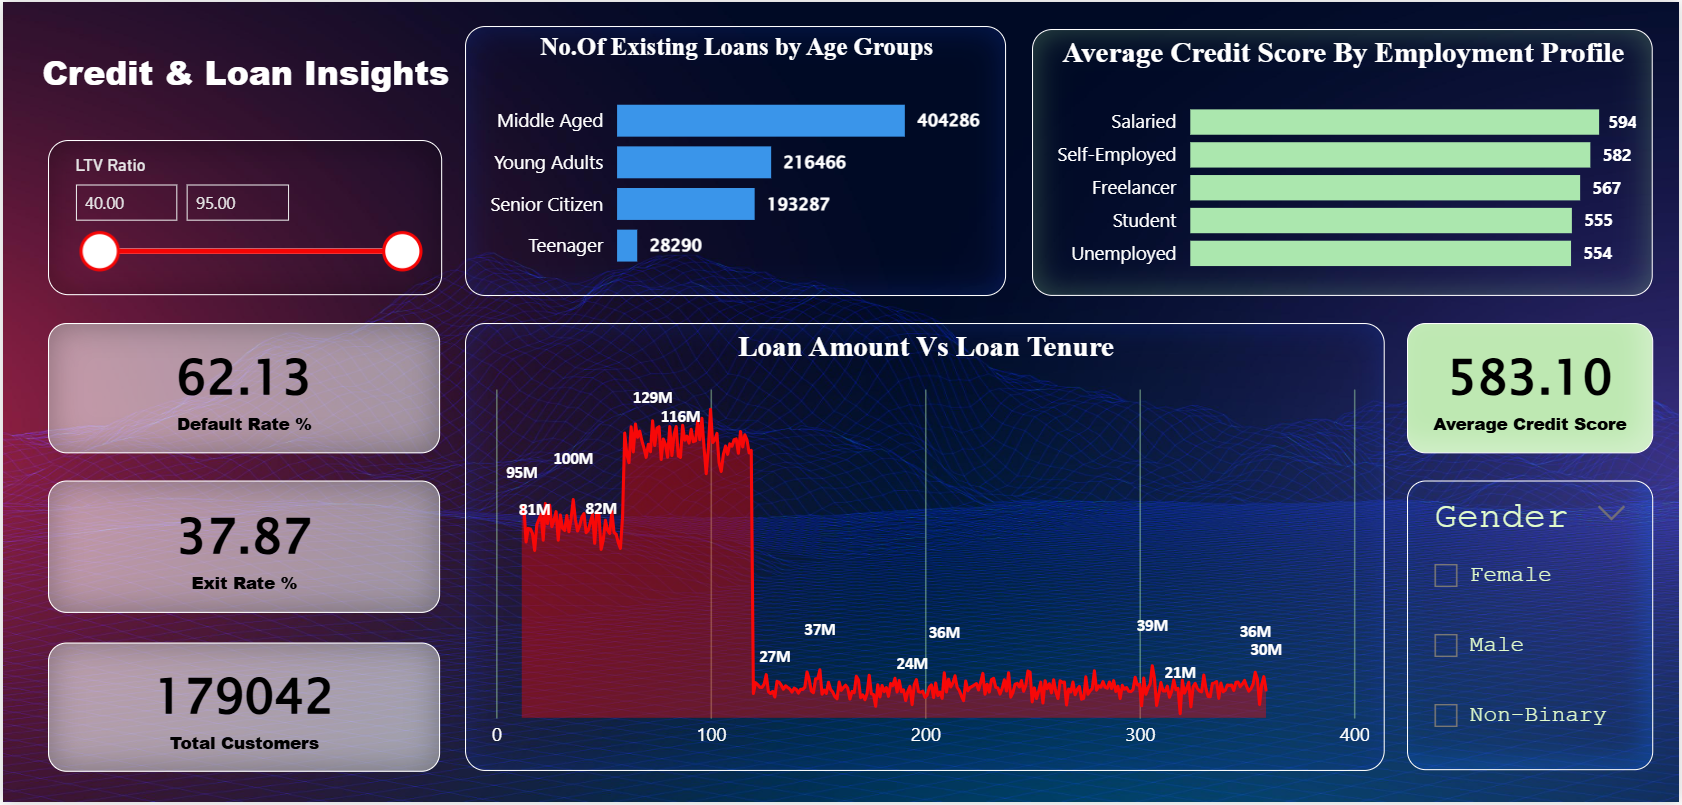

Layout of this report page (visuals, bound fields, positions):
{"tool":"powerbi","page":{"name":"Credit & Loan","canvas":[1080,515],"ordinal":1},"visuals":[{"type":"textbox","box":[16.3,25.1,280,43.6],"z":0},{"type":"clusteredBarChart","title":"Average Credit Score By Employment Profile","fields":{"Category":["credit_data.Employment Profile"],"Y":["Avg(credit_data.Credit Score)"]},"box":[663.5,17.4,399.8,172.1],"z":1000},{"type":"lineChart","title":"Loan Amount Vs Loan Tenure","fields":{"Category":["credit_data.Loan Tenure"],"Y":["Sum(credit_data.Loan Amount)"]},"box":[297.7,207,592.8,288.7],"z":2000},{"type":"slicer","title":"Average Credit Score By Employment Profile","fields":{"Values":["credit_data.LTV Ratio"]},"box":[29.4,89.3,253.8,100.2],"z":3000},{"type":"clusteredBarChart","title":"No.Of Existing Loans by Age Groups","fields":{"Category":["credit_data.Age Category"],"Y":["Sum(credit_data.Number of Existing Loans)"]},"box":[297.7,15.3,348.8,173.8],"z":4000},{"type":"card","fields":{"Values":["credit_data.Default Rate %"]},"box":[29.4,207,253,84.3],"z":5000},{"type":"card","fields":{"Values":["credit_data.Exit %"]},"box":[29.4,307.9,253,85.6],"z":6000},{"type":"card","fields":{"Values":["credit_data.Total Customers"]},"box":[29.4,412.7,253,83],"z":7000},{"type":"card","fields":{"Values":["Avg(credit_data.Credit Score)"]},"box":[904.5,207,158.4,84.3],"z":8000},{"type":"slicer","fields":{"Values":["credit_data.Gender"]},"box":[904.5,307.9,158.4,186.5],"z":9000}]}

Visuals, with their boxes in screenshot pixels (x1, y1, x2, y2), scaled from the page's 1080x515 canvas onto the 1682x805 screenshot:
textbox: box=[25, 39, 461, 107]
"Average Credit Score By Employment Profile" clusteredBarChart: box=[1033, 27, 1656, 296]
"Loan Amount Vs Loan Tenure" lineChart: box=[464, 324, 1387, 775]
"Average Credit Score By Employment Profile" slicer: box=[46, 140, 441, 296]
"No.Of Existing Loans by Age Groups" clusteredBarChart: box=[464, 24, 1007, 296]
card - credit_data.Default Rate %: box=[46, 324, 440, 455]
card - credit_data.Exit %: box=[46, 481, 440, 615]
card - credit_data.Total Customers: box=[46, 645, 440, 775]
card - Avg(credit_data.Credit Score): box=[1409, 324, 1655, 455]
slicer - credit_data.Gender: box=[1409, 481, 1655, 773]
